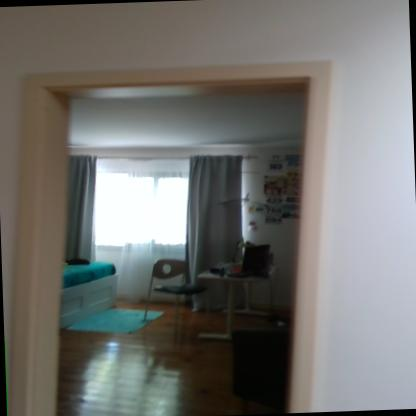open: (0, 54, 355, 416)
